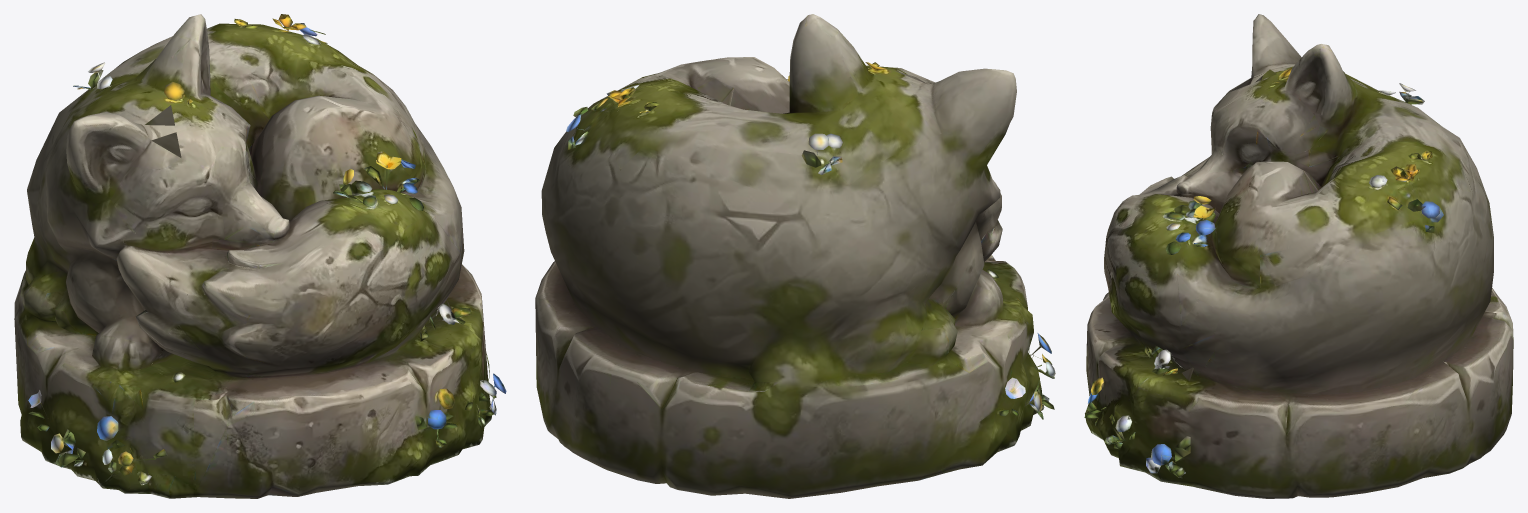
File: deco-statue.glb
3 views of the same model, side by side, from view 1: azimuth 30°, elevation 25°; view 2: azimuth 150°, elevation 25°; view 3: azimuth 270°, elevation 25° (orthographic). The views are drawn at different scales.
Bounding box in the file's own units: 1.16 × 1 × 1.11.
1 material, 1 textured.
